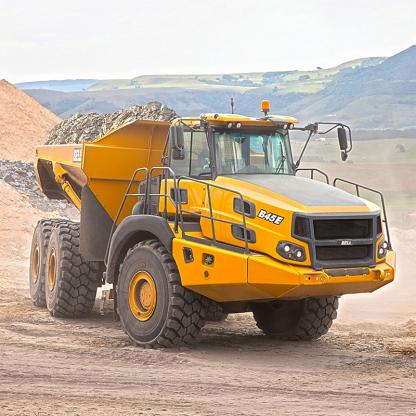dump_truck: (31, 92, 398, 357)
